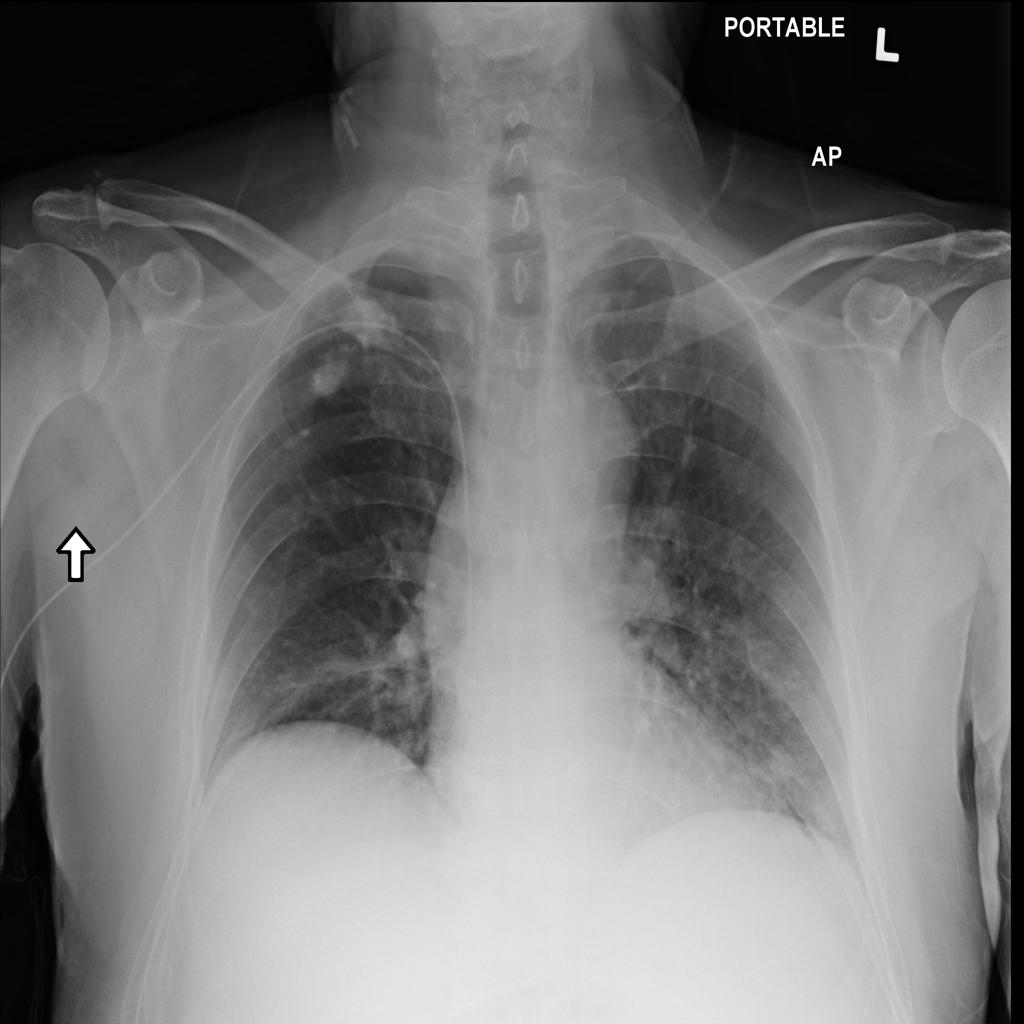nodule: (336, 284, 409, 360), (298, 336, 362, 412), (759, 735, 806, 792)
